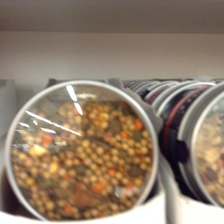spices: (4, 79, 158, 222)
